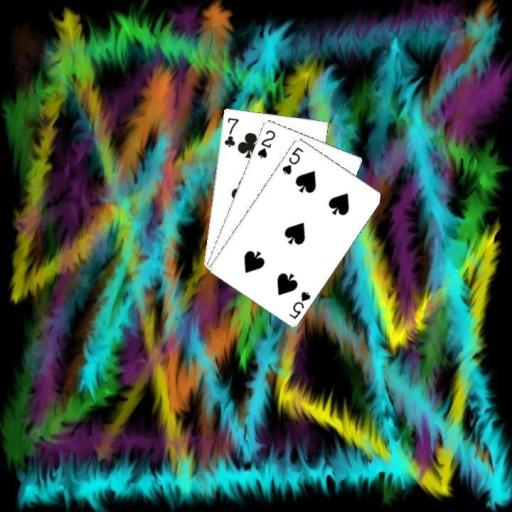2S: (254, 127, 277, 159)
5S: (279, 144, 305, 176), (286, 288, 312, 320)
7C: (222, 114, 241, 149)
